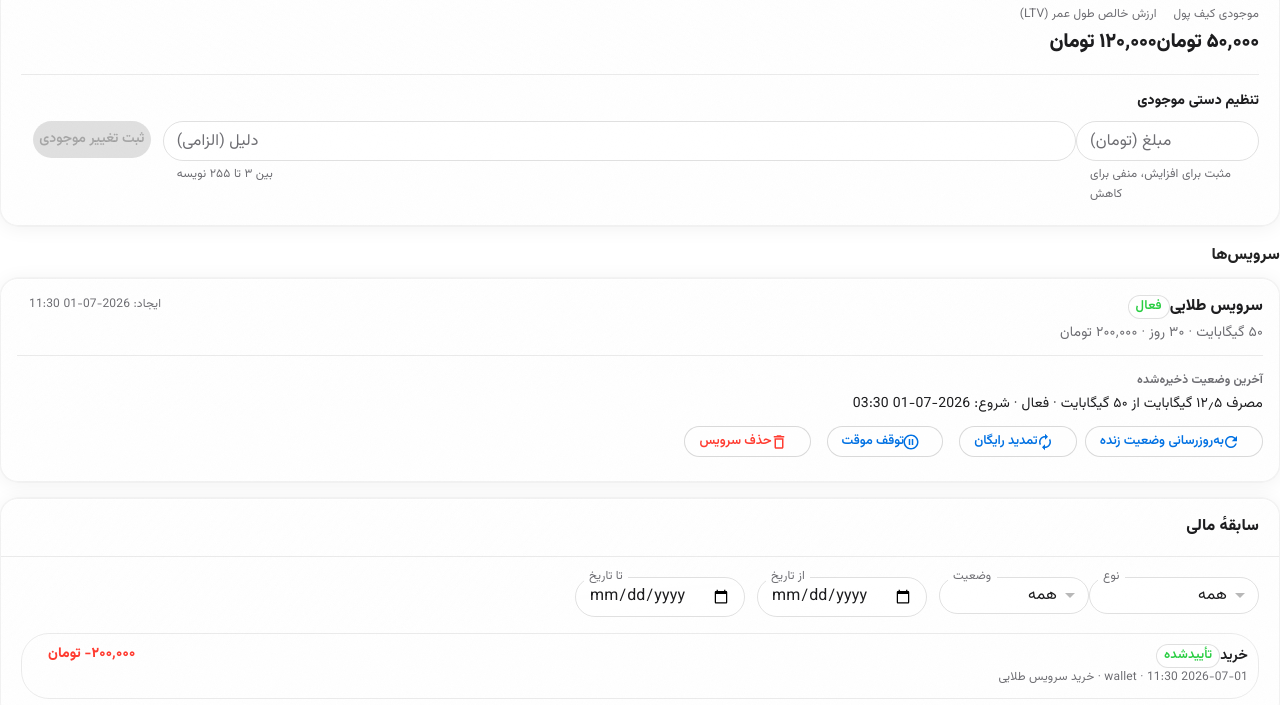
storefront customer detail › treats a 429 live refresh as a soft retry, surfacing Retry-After
(page scrolled)
Click the button "به‌روزرسانی وضعیت زنده": (1174, 442) [1085,426,1263,457]
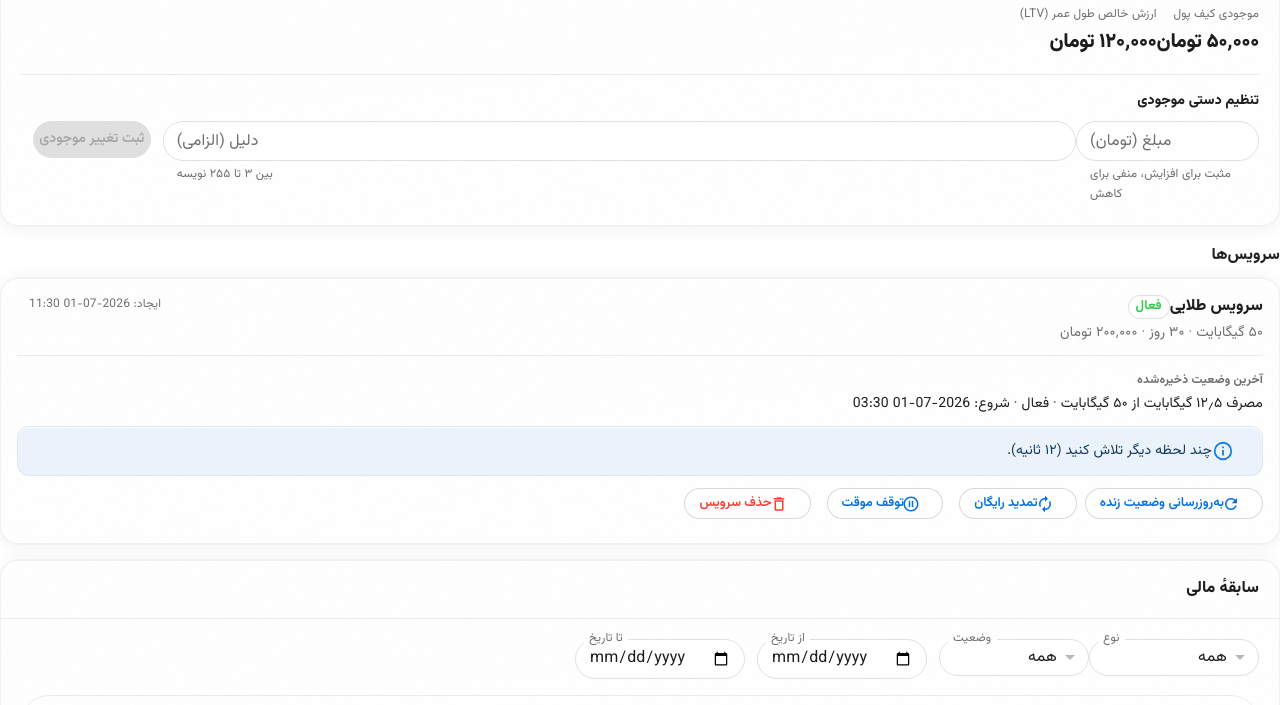
expect the text "چند لحظه دیگر تلاش کنید (۱۲ ثانیه)." is shown: met, box [1007,433,1212,469]
